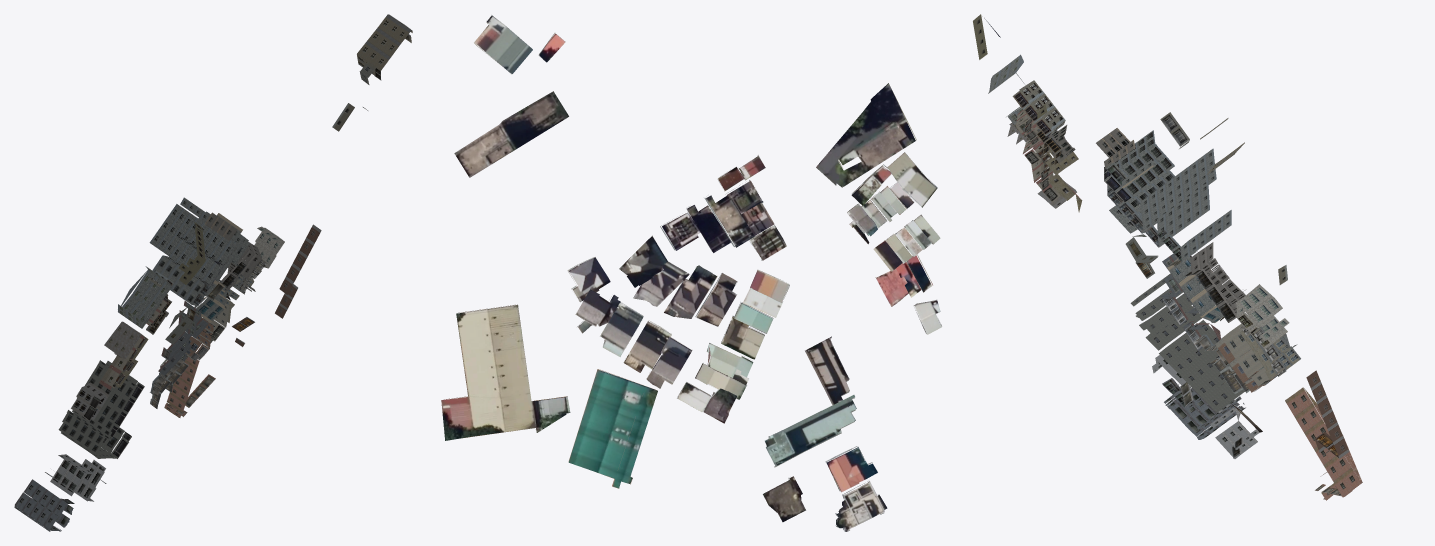
File: tile_LOD4_r15_c8.glb
The picture shows the model from 3 angles, left to right: view 1: azimuth 30°, elevation 25°; view 2: azimuth 150°, elevation 25°; view 3: azimuth 270°, elevation 25°; orthographic projection. The views are drawn at different scales.
Bounding box in the file's own units: 174 × 178 × 135.
Materials: 178 (178 with a texture image).
